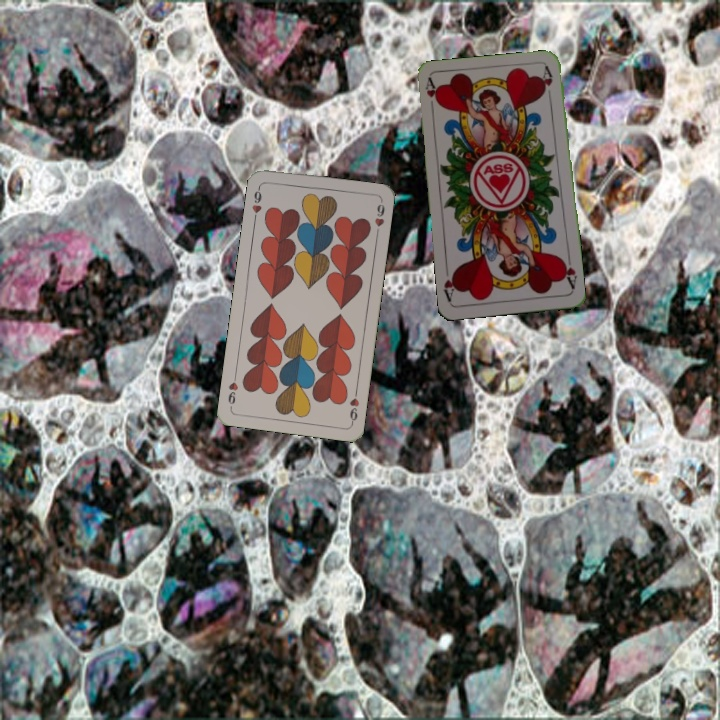H9: (346, 385, 362, 426), (248, 182, 264, 223)
HA: (421, 75, 442, 116), (558, 252, 579, 292)
